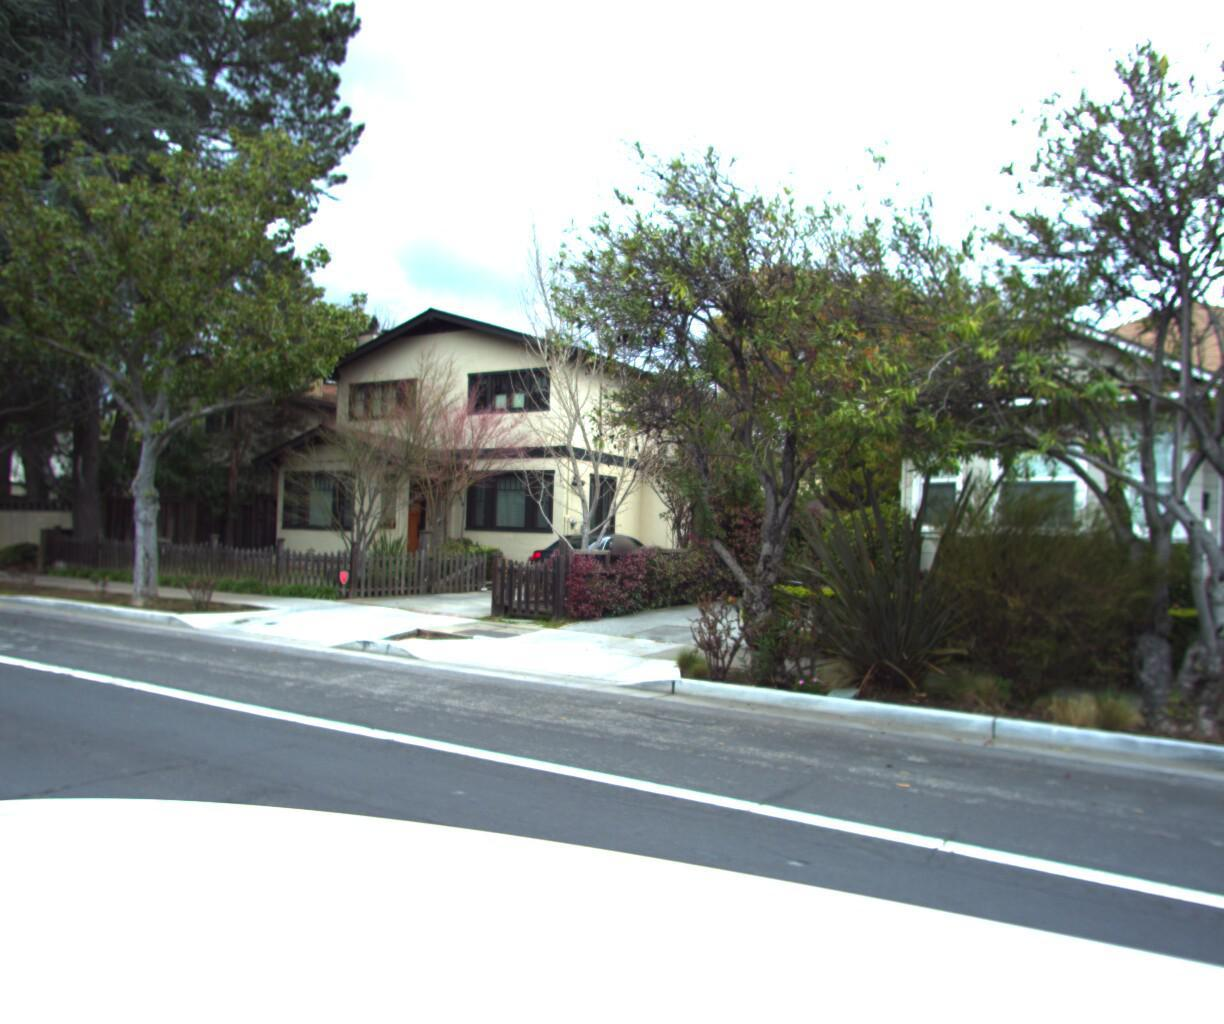car: (518, 529, 684, 601)
